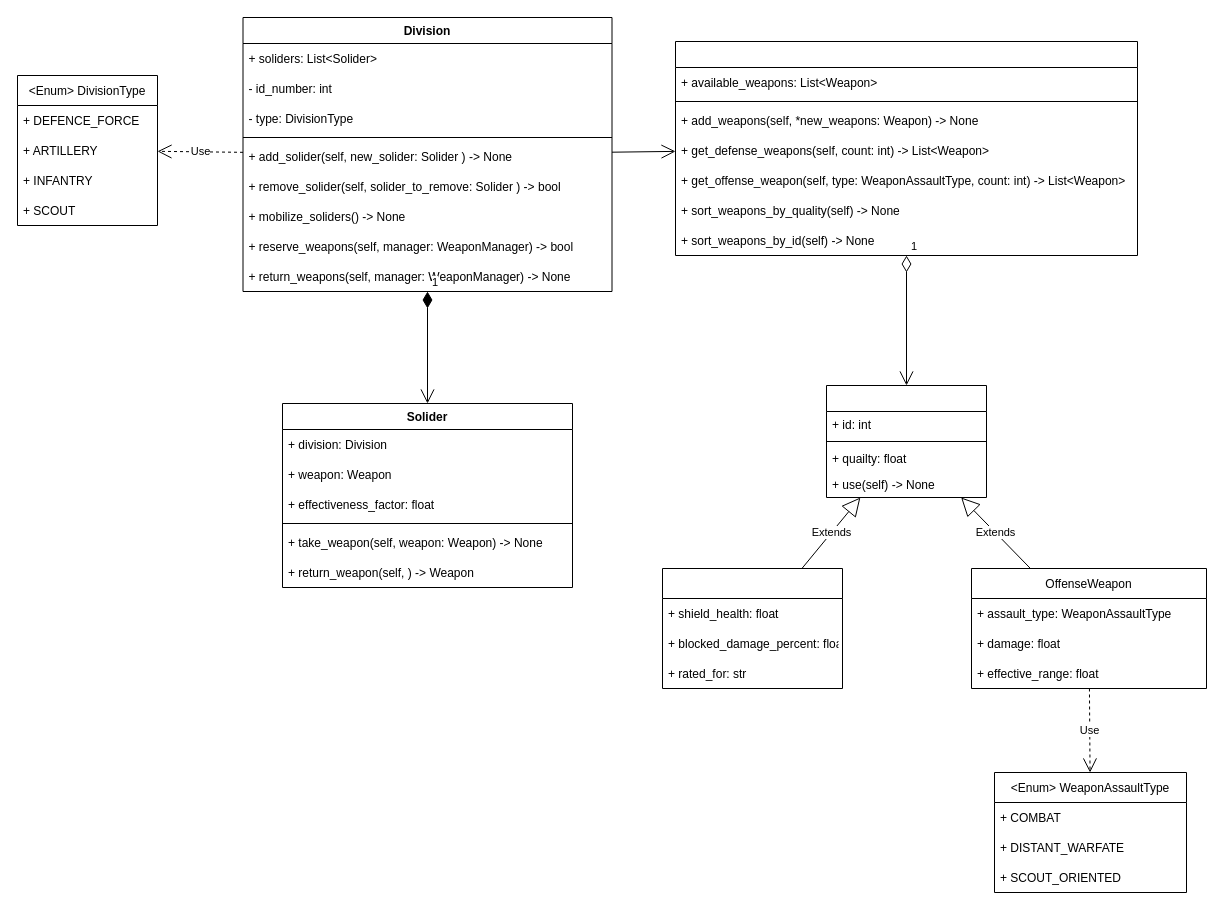
The diagram is 1224 pixels wide and 910 high, and some of its shapes have lost their labels. The shapes that lost their labels are listed below. From the top down, each one's box as (x1, y1, x2, y2) in pixels, then its label:
(674, 40, 1138, 256): WeponryManager
(826, 384, 986, 498): Weapon
(662, 568, 842, 688): DefenceWeapon
